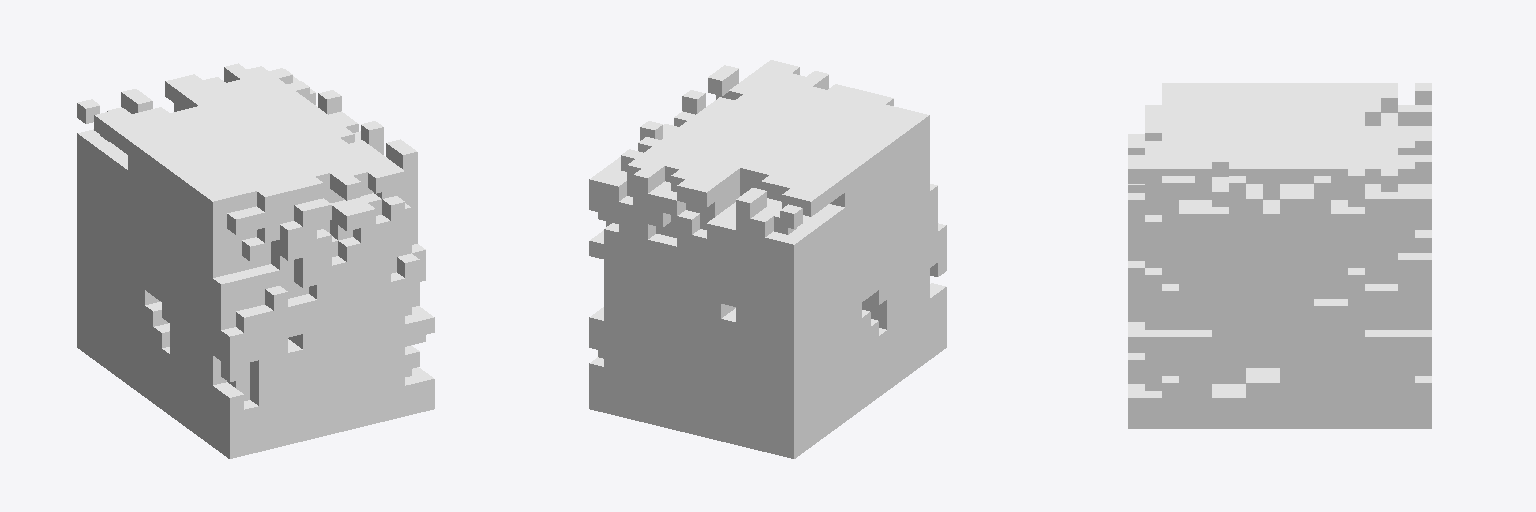
Rendered from House1-7.obj.
3 views of the same model, side by side, from view 1: azimuth 30°, elevation 25°; view 2: azimuth 150°, elevation 25°; view 3: azimuth 270°, elevation 25° (orthographic).
Visible parts, largest first — view 1: object 1; view 2: object 1; view 3: object 1.
Boxes of the visible parts, x1=… form: object 1: x1=77, y1=63, x2=434, y2=458; object 1: x1=589, y1=60, x2=946, y2=458; object 1: x1=1128, y1=83, x2=1431, y2=428.
Size of the model in its own units: 1.4 by 1.6 by 1.8.